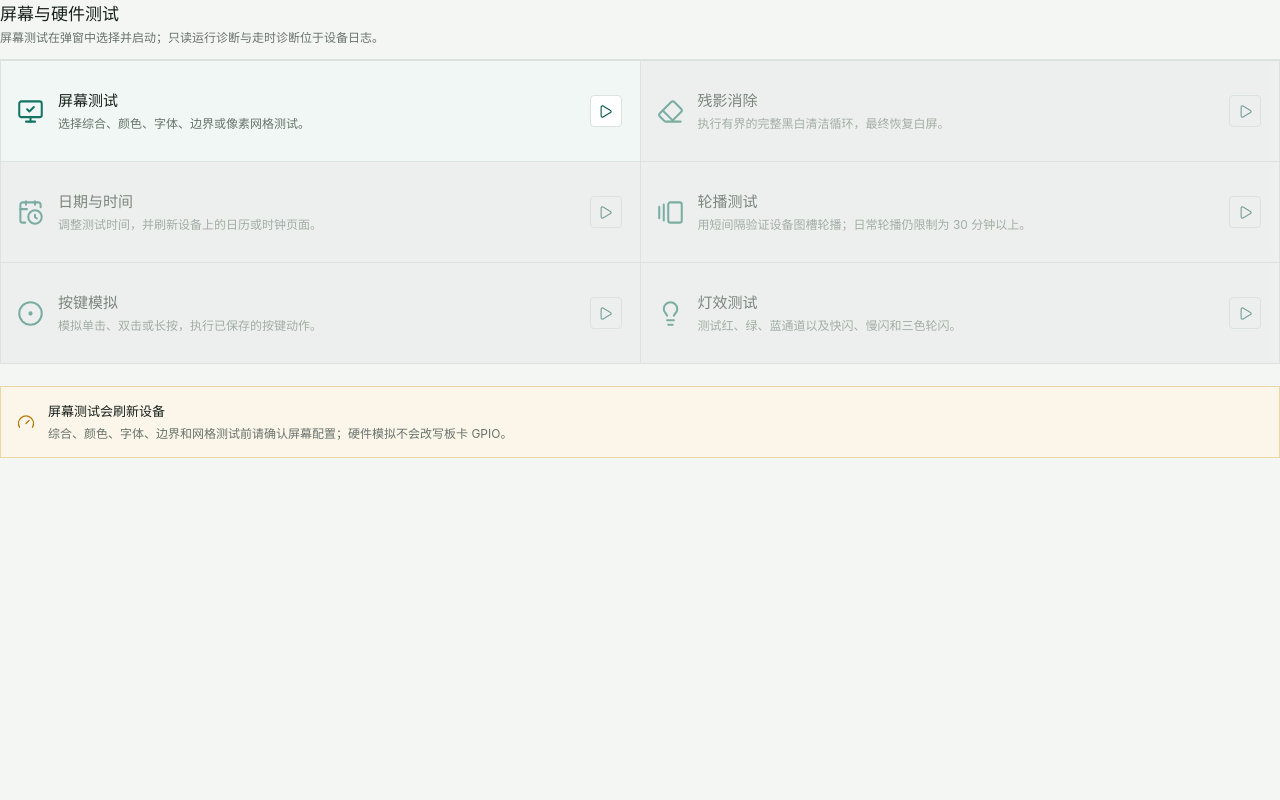
Test: opens five screen choices with zero commands, and closes without running
What coordinates should you click on to do the following:
click the button with class "test-card" showing "屏幕测试 选择综合、颜色、字体、边界或像素网格测试。"
I would click on:
 (88, 100)
Its box is [1,61,640,161].
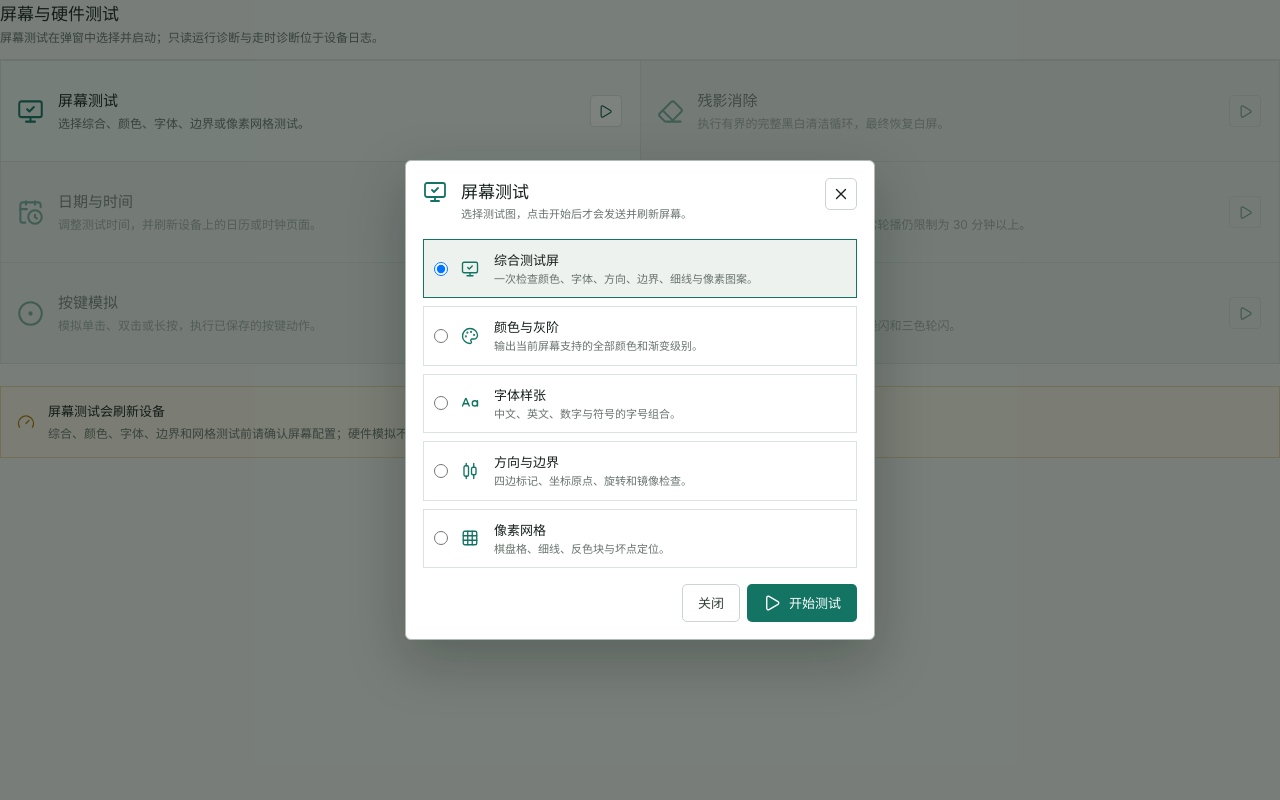
expect the number of radio buttons is 5: met, box [434,262,448,276]; [434,329,448,343]; [434,396,448,410]; [434,464,448,478]; [434,531,448,545]
What coordinates should you click on to do the following:
click the button "关闭"
I would click on:
 (711, 603)
Its box is [682,584,740,622].
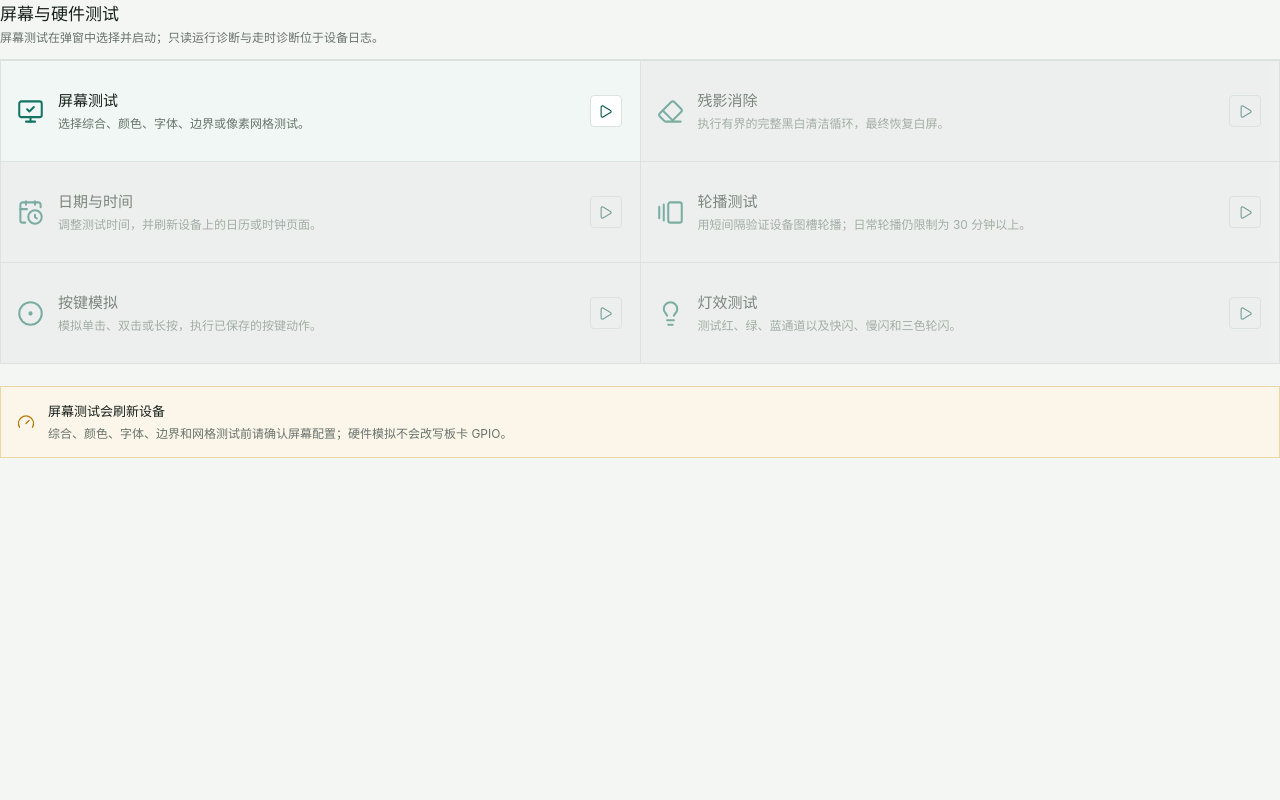
expect the dialog is gone: met
